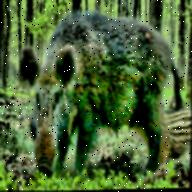boar: (9, 0, 192, 186)
